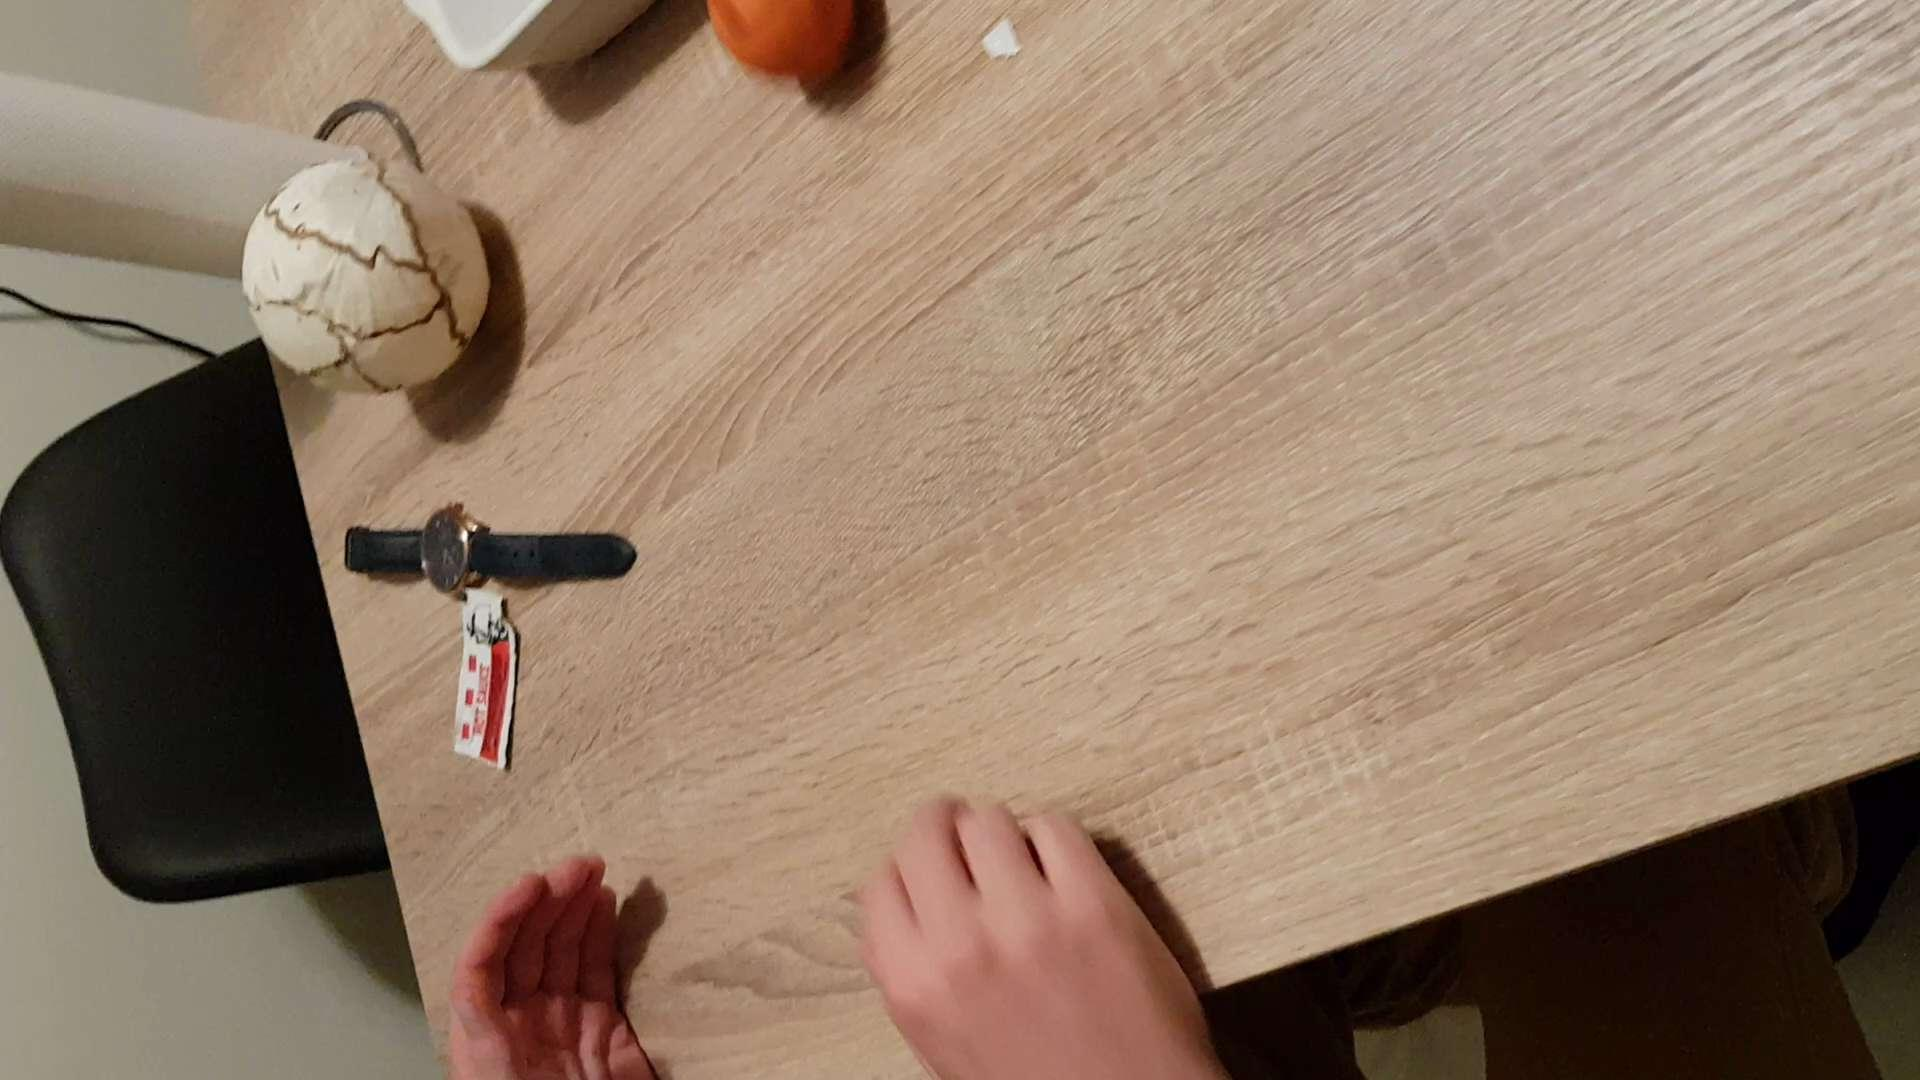sphere: (233, 142, 498, 400)
